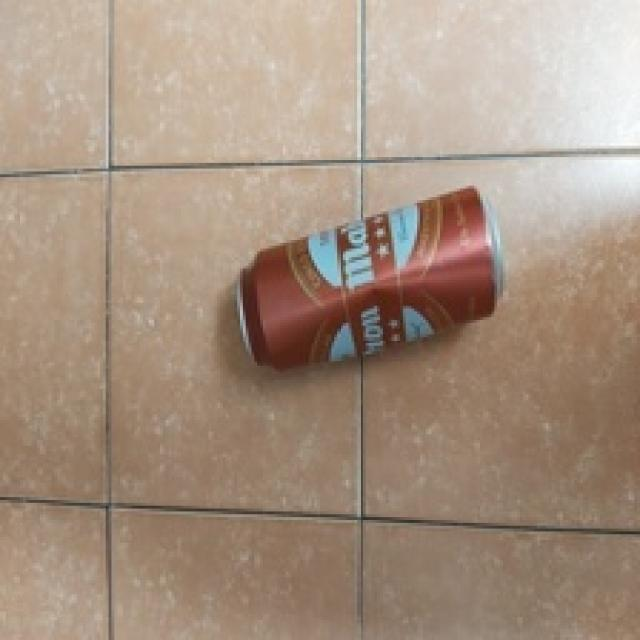recyclable: (236, 180, 505, 372)
